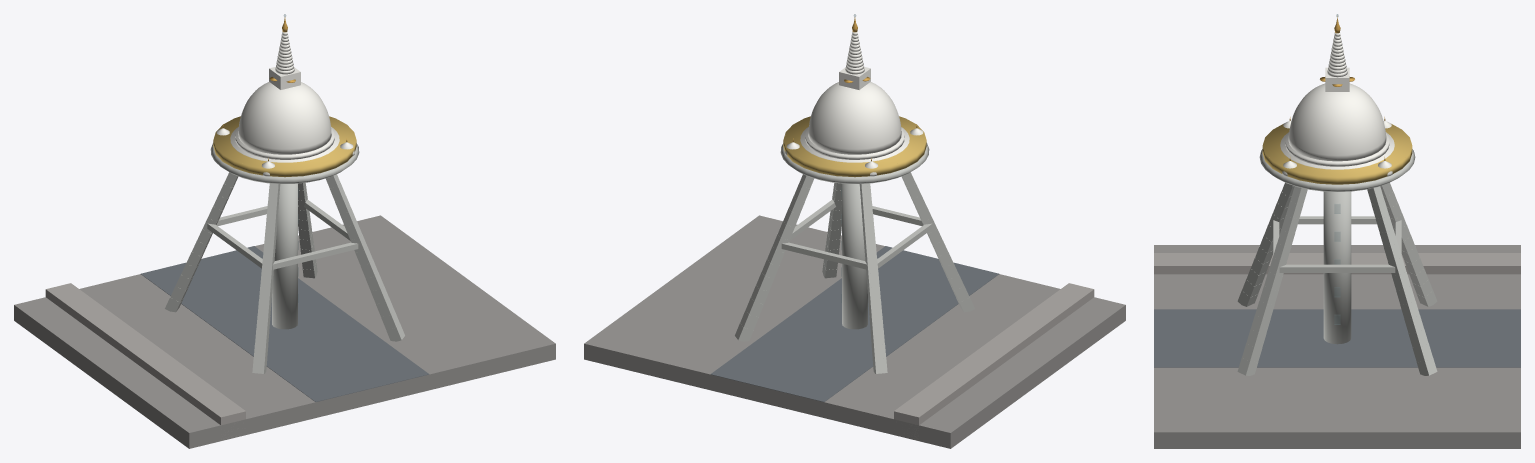
Rendered from sambodhi-chaithya.glb.
3 renders of one model, left to right at view 1: azimuth 30°, elevation 25°; view 2: azimuth 150°, elevation 25°; view 3: azimuth 270°, elevation 25°, orthographic. The views are drawn at different scales.
Parts seen in each view (by area): view 1: 01 Coastal foundation and roadway underpass / Granite Base, 01 Coastal foundation and roadway underpass / Dark Anodized, 02 Parabolic concrete arch legs / Concrete, 01 Coastal foundation and roadway underpass / Rusticated Gra, 04 Stupa dome (Garbhaya) / White plaster, 02 Parabolic concrete arch legs / Concrete.001, 03 Upper observation deck and terrace / Lighthouse Brass, 03 Upper observation deck and terrace / White plaster, 03 Upper observation deck and terrace / Concrete, 05 Harmika, conical spire, and pinnacle / White plaster.001; view 2: 01 Coastal foundation and roadway underpass / Granite Base, 01 Coastal foundation and roadway underpass / Dark Anodized, 02 Parabolic concrete arch legs / Concrete, 01 Coastal foundation and roadway underpass / Rusticated Gra, 04 Stupa dome (Garbhaya) / White plaster, 02 Parabolic concrete arch legs / Concrete.001, 03 Upper observation deck and terrace / Lighthouse Brass, 03 Upper observation deck and terrace / White plaster, 03 Upper observation deck and terrace / Concrete, 05 Harmika, conical spire, and pinnacle / White plaster.001; view 3: 01 Coastal foundation and roadway underpass / Granite Base, 01 Coastal foundation and roadway underpass / Dark Anodized, 02 Parabolic concrete arch legs / Concrete, 04 Stupa dome (Garbhaya) / White plaster, 01 Coastal foundation and roadway underpass / Rusticated Gra, 02 Parabolic concrete arch legs / Concrete.001, 03 Upper observation deck and terrace / Lighthouse Brass, 03 Upper observation deck and terrace / White plaster, 03 Upper observation deck and terrace / Concrete, 05 Harmika, conical spire, and pinnacle / White plaster.001, 05 Harmika, conical spire, and pinnacle / White plaster.
Boxes of the visible parts, x1,y1,x2,y2 form: 01 Coastal foundation and roadway underpass / Granite Base: (14,215,555,448); 01 Coastal foundation and roadway underpass / Dark Anodized: (141,246,429,401); 02 Parabolic concrete arch legs / Concrete: (165,172,404,373); 01 Coastal foundation and roadway underpass / Rusticated Gra: (45,283,245,440); 04 Stupa dome (Garbhaya) / White plaster: (238,82,331,154); 02 Parabolic concrete arch legs / Concrete.001: (272,183,297,329); 03 Upper observation deck and terrace / Lighthouse Brass: (213,116,356,177); 03 Upper observation deck and terrace / White plaster: (230,127,339,162); 03 Upper observation deck and terrace / Concrete: (210,143,359,183); 05 Harmika, conical spire, and pinnacle / White plaster.001: (216,31,354,176); 01 Coastal foundation and roadway underpass / Granite Base: (584,215,1125,448); 01 Coastal foundation and roadway underpass / Dark Anodized: (710,246,998,401); 02 Parabolic concrete arch legs / Concrete: (735,172,974,373); 01 Coastal foundation and roadway underpass / Rusticated Gra: (894,283,1094,440); 04 Stupa dome (Garbhaya) / White plaster: (808,82,901,154); 02 Parabolic concrete arch legs / Concrete.001: (842,183,867,329); 03 Upper observation deck and terrace / Lighthouse Brass: (783,116,926,177); 03 Upper observation deck and terrace / White plaster: (800,127,909,162); 03 Upper observation deck and terrace / Concrete: (780,143,929,183); 05 Harmika, conical spire, and pinnacle / White plaster.001: (785,31,923,176); 01 Coastal foundation and roadway underpass / Granite Base: (1154,245,1520,448); 01 Coastal foundation and roadway underpass / Dark Anodized: (1154,309,1520,367); 02 Parabolic concrete arch legs / Concrete: (1237,182,1437,375); 04 Stupa dome (Garbhaya) / White plaster: (1288,83,1386,161); 01 Coastal foundation and roadway underpass / Rusticated Gra: (1154,253,1520,274); 02 Parabolic concrete arch legs / Concrete.001: (1323,191,1351,344); 03 Upper observation deck and terrace / Lighthouse Brass: (1262,124,1412,184); 03 Upper observation deck and terrace / White plaster: (1280,132,1394,169); 03 Upper observation deck and terrace / Concrete: (1259,149,1415,191); 05 Harmika, conical spire, and pinnacle / White plaster.001: (1282,32,1392,176); 05 Harmika, conical spire, and pinnacle / White plaster: (1325,67,1349,91).
Size of the model in its own units: 58 by 49.29 by 48.
